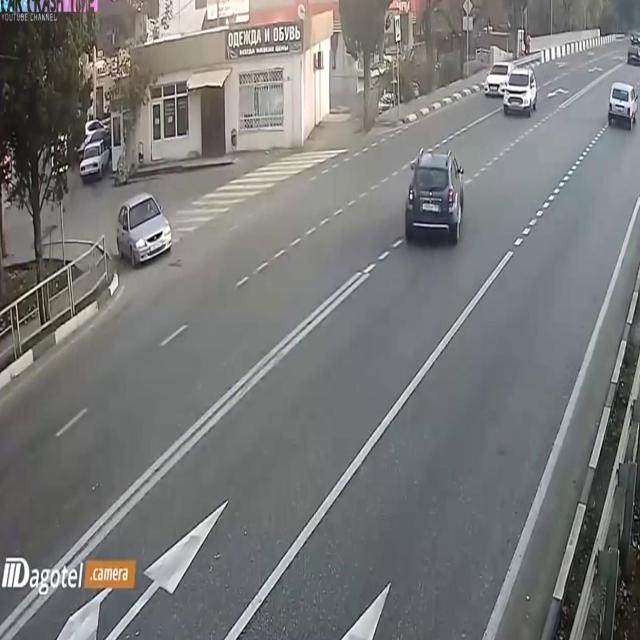non_accident: (481, 57, 539, 125)
